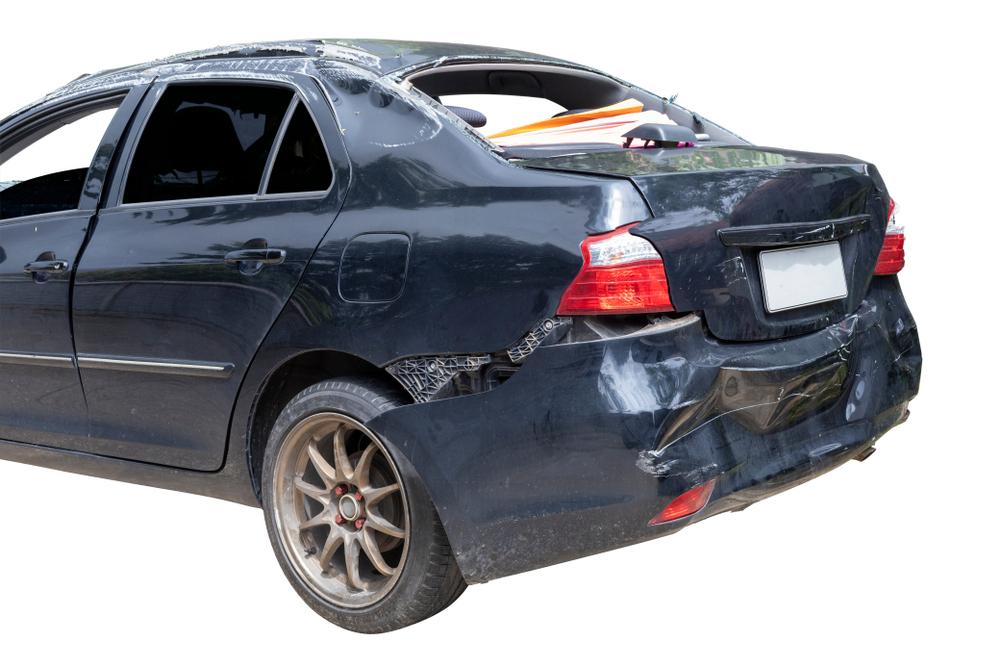crack: (176, 48, 311, 64)
dent: (625, 307, 922, 489), (306, 60, 440, 146)
scratch: (31, 58, 307, 108)
